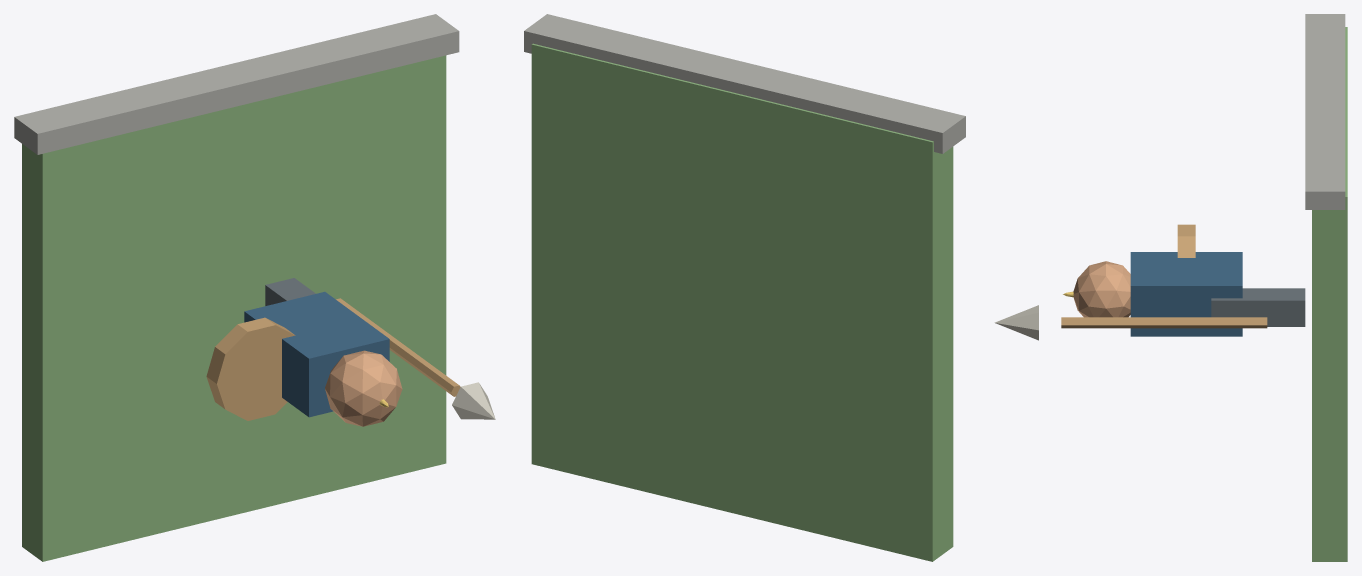
File: 04_BinhSi.glb
3 renders of one model, left to right at view 1: azimuth 30°, elevation 25°; view 2: azimuth 150°, elevation 25°; view 3: azimuth 270°, elevation 25°, orthographic. The views are drawn at different scales.
Visible parts, largest first — view 1: base, edge, body, shield, head, spear, tip, leg; view 2: base, edge; view 3: base, edge, body, leg, head, spear, tip, shield.
Boxes of the visible parts, box(x1,y1,x2,y2) form: base: box(22, 55, 446, 561); edge: box(14, 14, 459, 154); body: box(244, 291, 389, 417); shield: box(206, 317, 295, 420); head: box(325, 350, 402, 426); spear: box(336, 298, 460, 396); tip: box(452, 382, 495, 419); leg: box(265, 278, 315, 305); base: box(531, 43, 953, 561); edge: box(524, 14, 965, 153); base: box(1312, 27, 1347, 561); edge: box(1305, 14, 1345, 209); body: box(1130, 252, 1242, 336); leg: box(1211, 288, 1305, 326); head: box(1073, 261, 1130, 317); spear: box(1061, 317, 1267, 328); tip: box(994, 305, 1038, 340); shield: box(1177, 224, 1195, 257).
Size of the model in its own units: 1.88 by 1.84 by 1.58.
